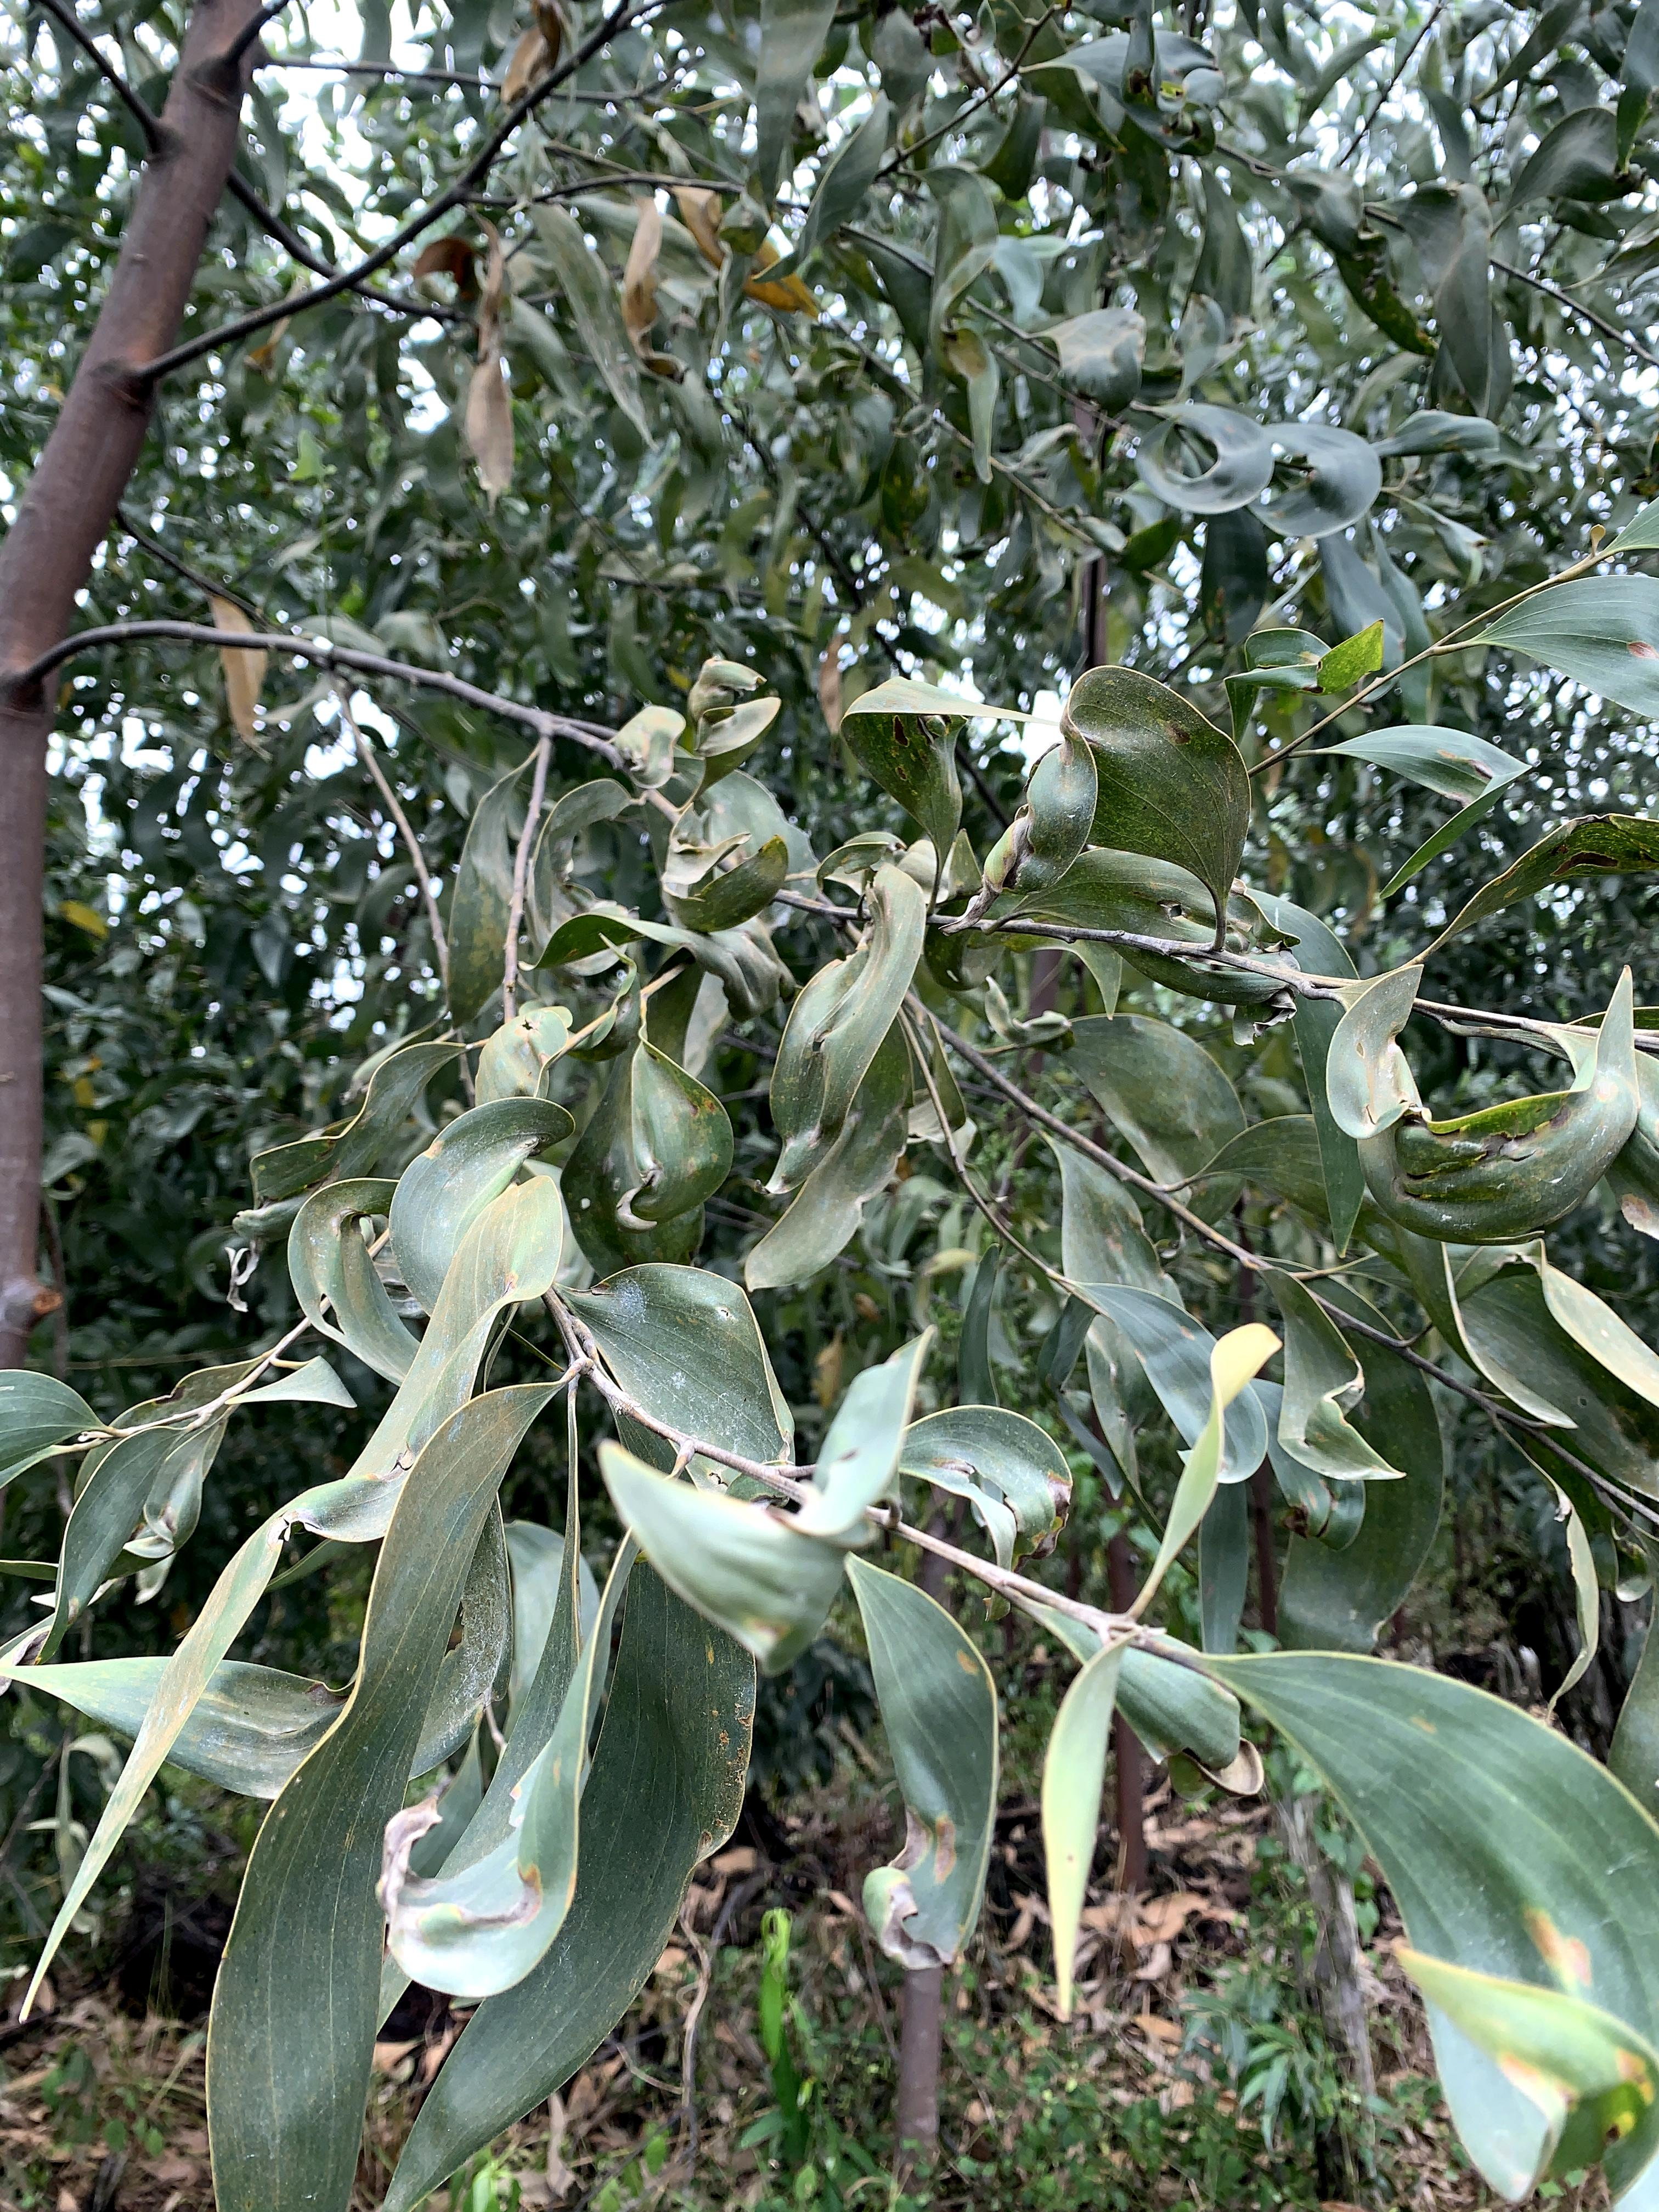Pasalora: (1319, 968, 1633, 1266), (371, 1785, 573, 2006), (587, 1047, 730, 1270), (918, 1409, 1079, 1555), (870, 1806, 972, 1989)
